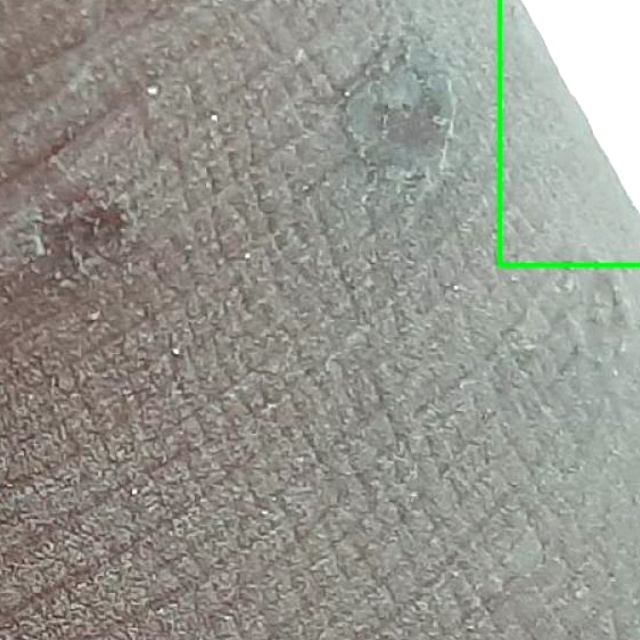Contact Dermatitis: (499, 0, 639, 266)
